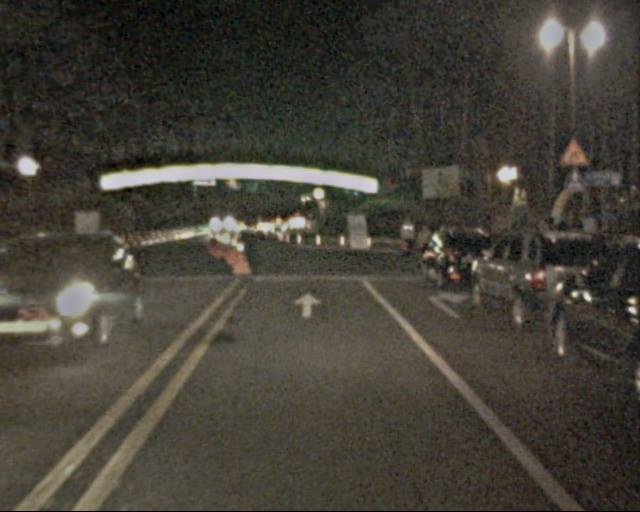person: (415, 223, 436, 273), (398, 219, 418, 268)
